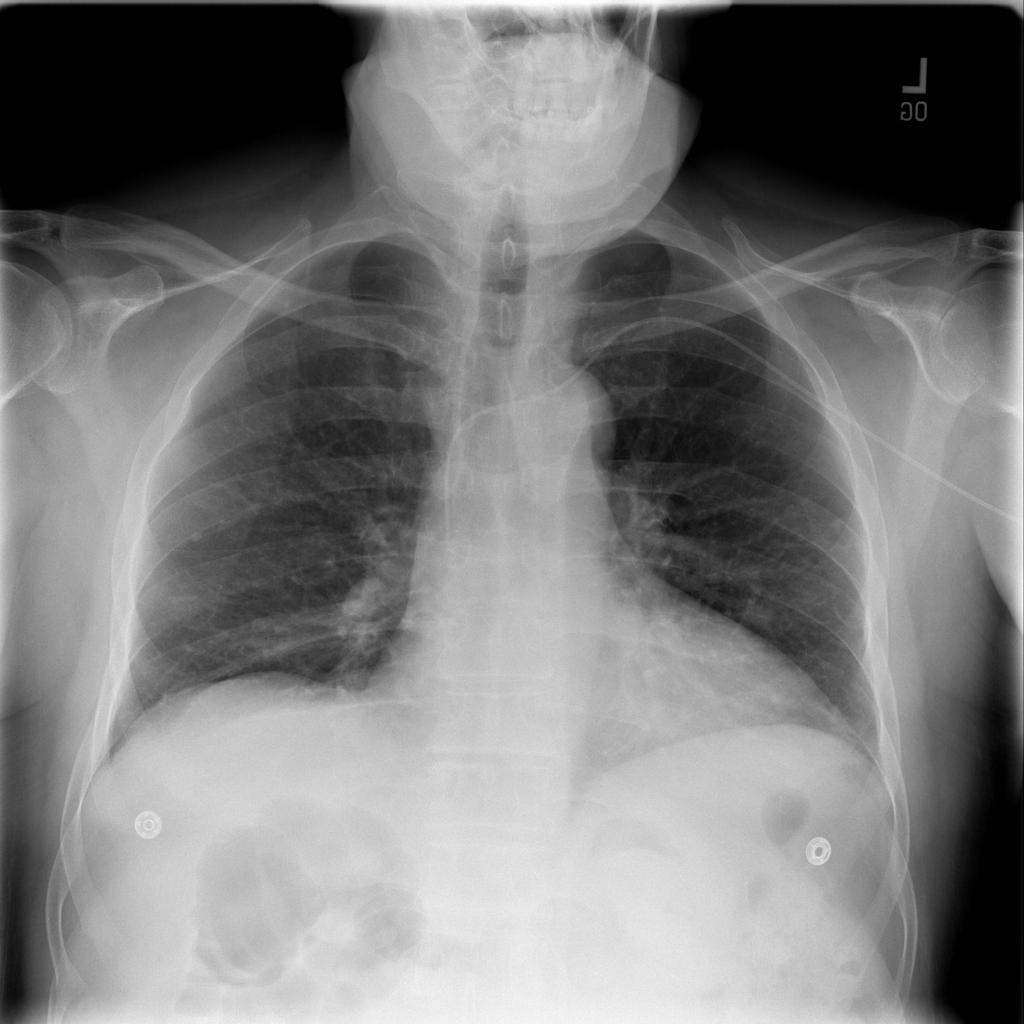nodule: (810, 500, 865, 546), (170, 516, 223, 561)
